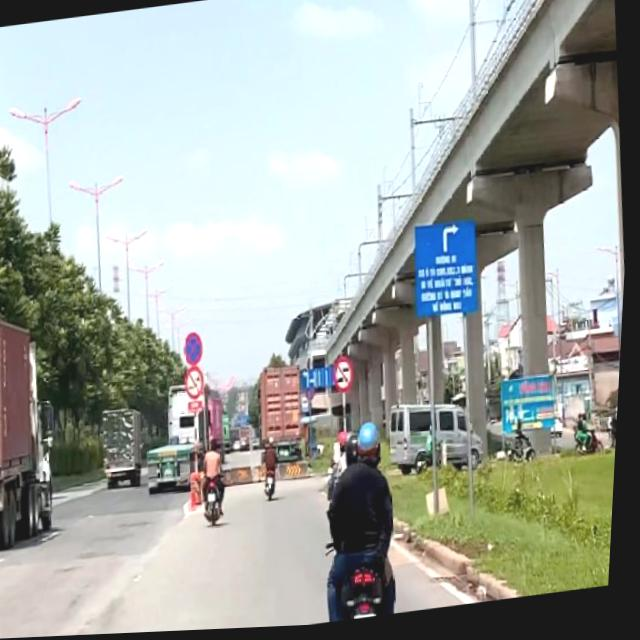Cam dung xe va do xe: (184, 331, 210, 370)
